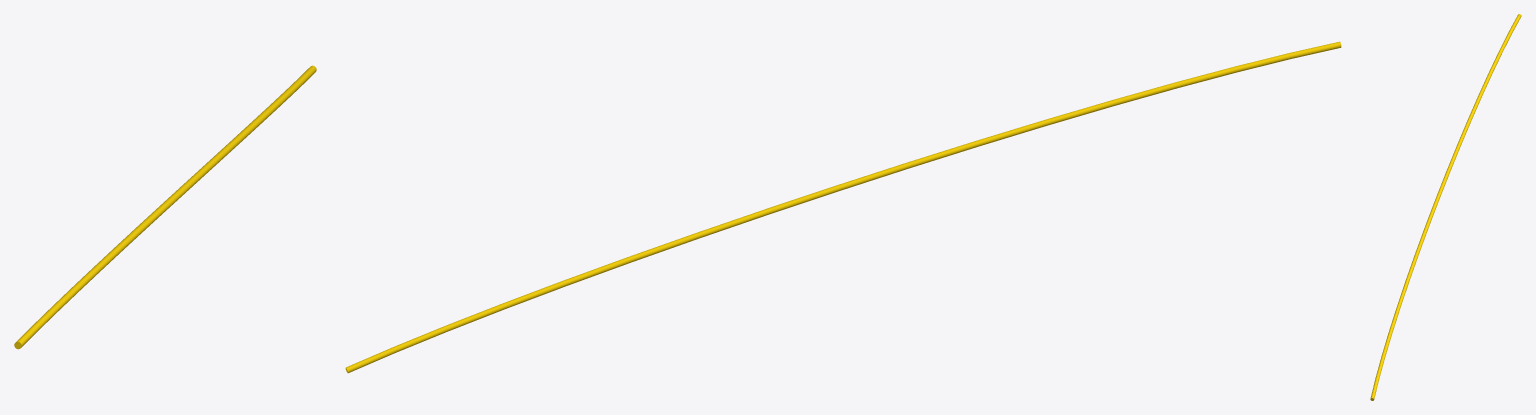
The model's file is Event_421278790_track_11.fbx.
The picture shows the model from 3 angles, left to right: view 1: azimuth 90°, elevation 25°; view 2: azimuth 210°, elevation 25°; view 3: azimuth 270°, elevation 25°; orthographic projection. The views are drawn at different scales.
Parts seen in each view (by area): view 1: Model; view 2: Model; view 3: Model.
Boxes of the visible parts, x1,y1,x2,y2 form: Model: [14, 65, 316, 349]; Model: [345, 41, 1341, 373]; Model: [1370, 14, 1521, 400].
Size of the model in its own units: 6.41 by 1.45 by 1.57.
